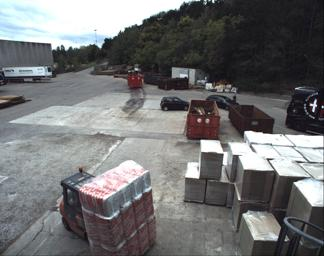rockwool_batts: (78, 163, 155, 255)
